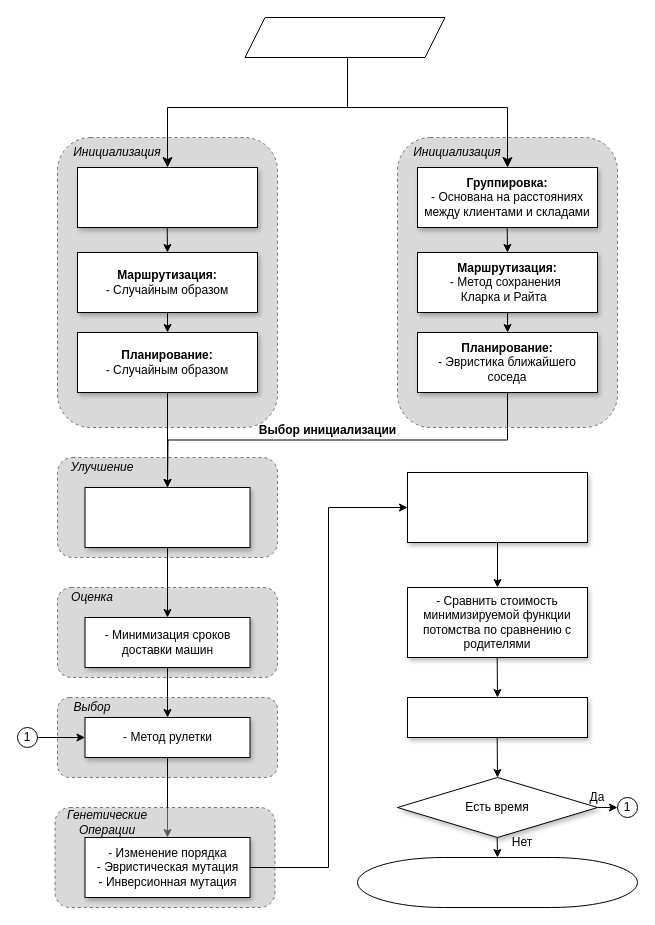
The diagram is 655 pixels wide and 925 high, and some of its shapes have lost their labels. The shapes that lost their labels are listed below. From the top down, each one's centre as x and y in pixels, then its label:
At (344,37): "Входные данные ГА".
At (168,198): "Группировка: - Случайным образом".
At (168,518): "Внутри- и Между-маршрутные оптимизации: - Итерации свапов".
At (498,509): "- Улучшить новое потомство с помощью итерационной процедуры обмена".
At (498,718): "- Сохраните лучший маршрут".
At (497,882): "Вернуть лучший маршрут".
